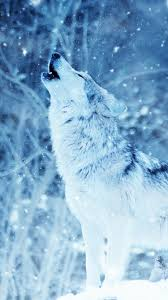Lobo: (1, 51, 157, 287)
